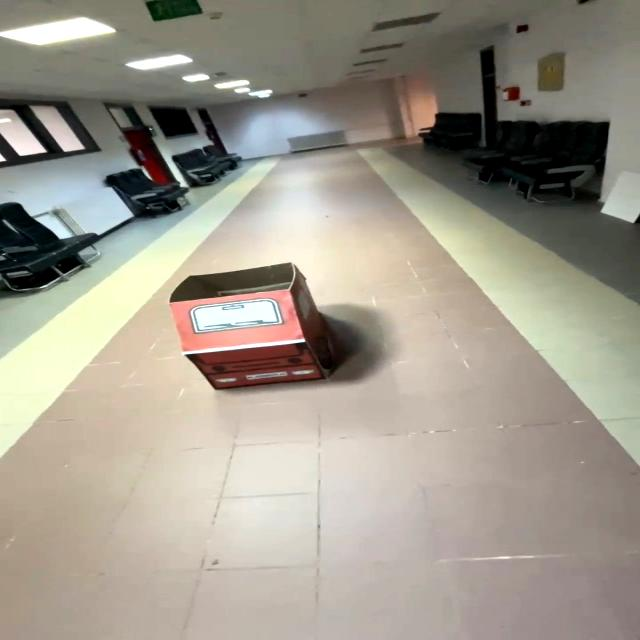red_car: (157, 255, 348, 395)
